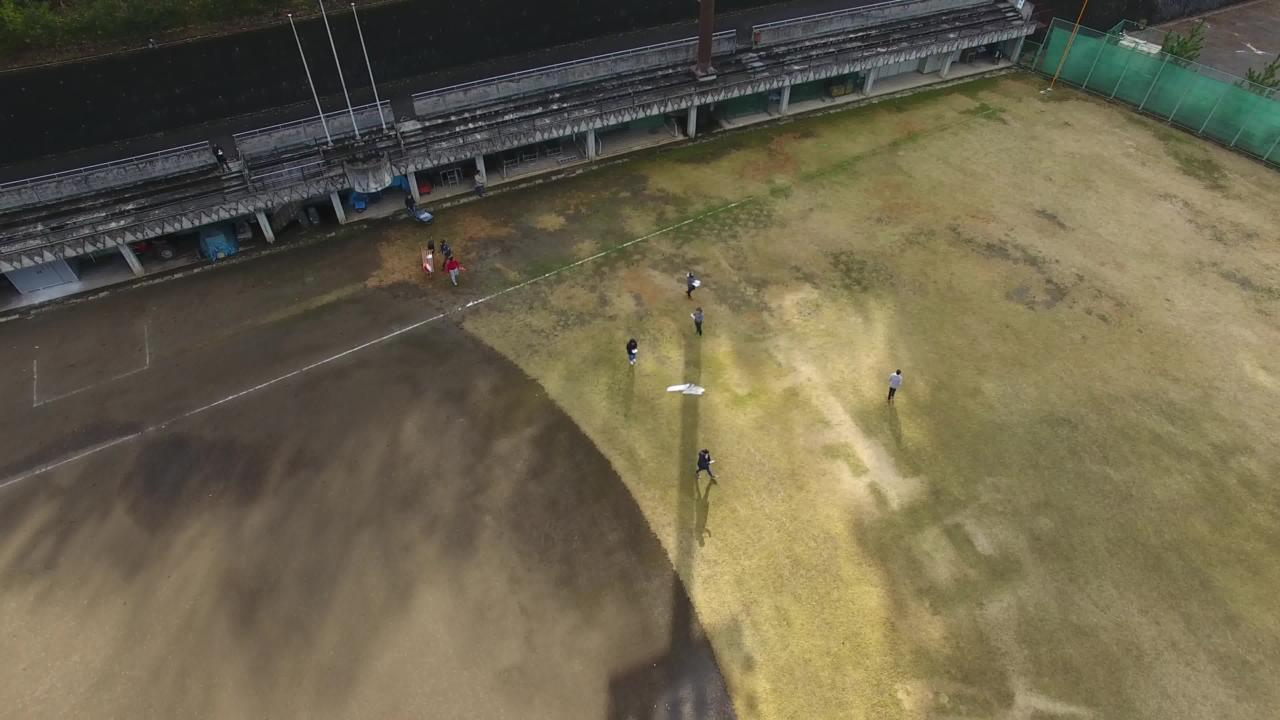person: (204, 137, 234, 175), (391, 184, 421, 222), (459, 164, 489, 202), (441, 253, 471, 291), (426, 230, 456, 268), (618, 334, 648, 372), (682, 304, 712, 342), (878, 365, 908, 403), (686, 449, 716, 487), (674, 265, 704, 303)
